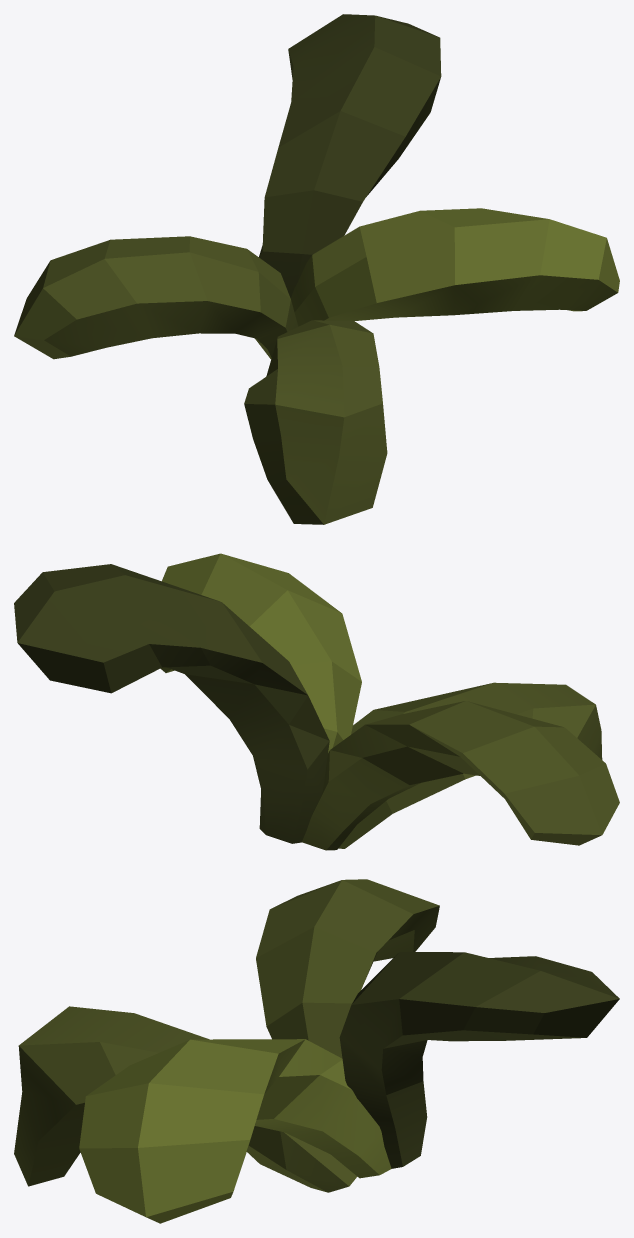
File: ea_swamp_leaf_01b_pre__3__1_lev1.glb
The picture shows the model from 3 angles, top to bottom: view 1: azimuth 30°, elevation 25°; view 2: azimuth 150°, elevation 25°; view 3: azimuth 270°, elevation 25°; orthographic projection. The views are drawn at different scales.
Visible parts, largest first — view 1: ea_swamp_leaf_01b_pre__3__1_lev1; view 2: ea_swamp_leaf_01b_pre__3__1_lev1; view 3: ea_swamp_leaf_01b_pre__3__1_lev1.
Part boxes in pixels (<box>): ea_swamp_leaf_01b_pre__3__1_lev1: <box>14,14,619,524</box>; ea_swamp_leaf_01b_pre__3__1_lev1: <box>14,553,619,850</box>; ea_swamp_leaf_01b_pre__3__1_lev1: <box>14,879,619,1223</box>.
Size of the model in its own units: 2.96 by 1.62 by 2.53.
Materials: 1 (1 with a texture image).
